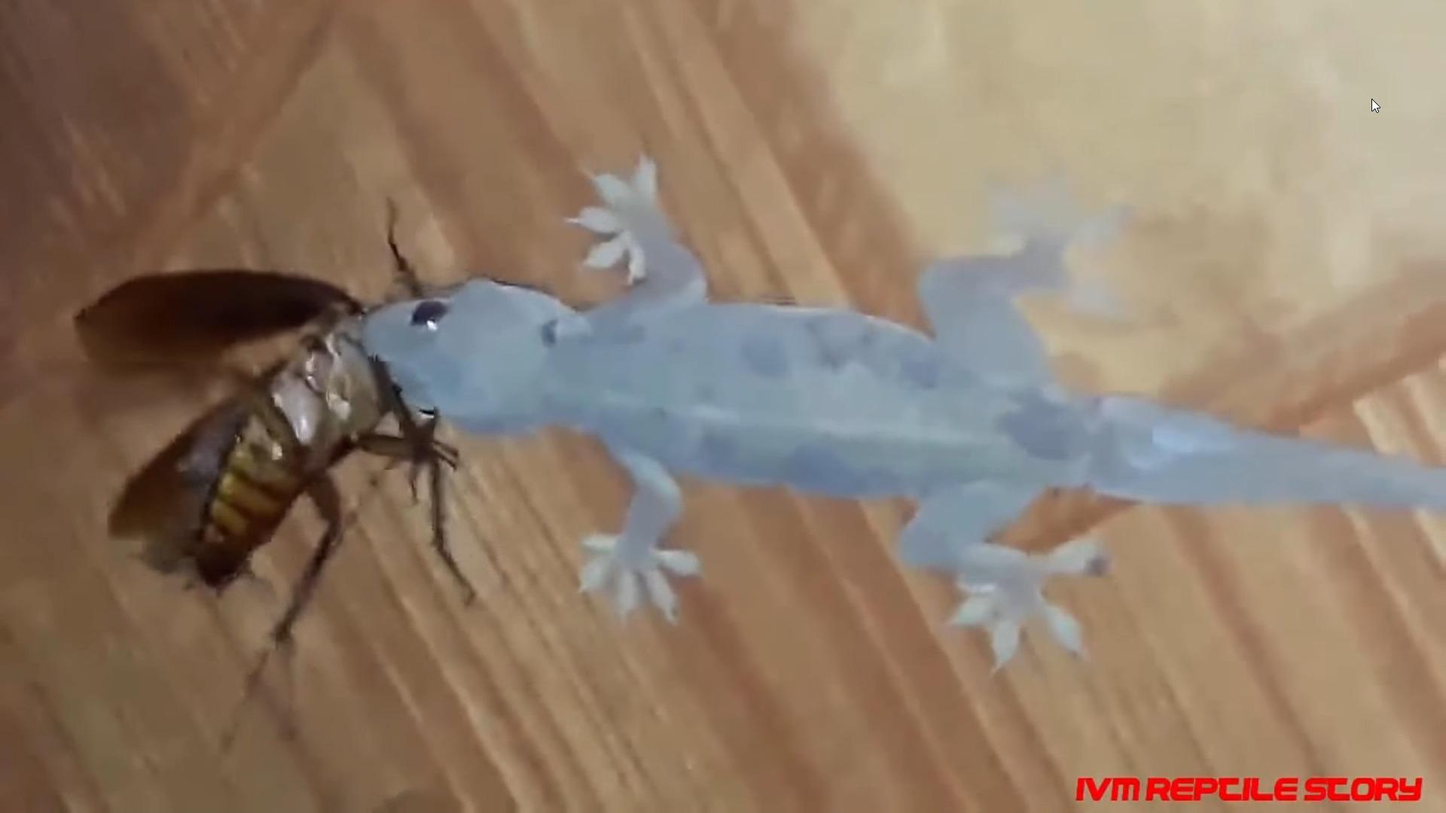cockroach: (136, 311, 369, 610)
lizard: (377, 47, 1411, 689)
